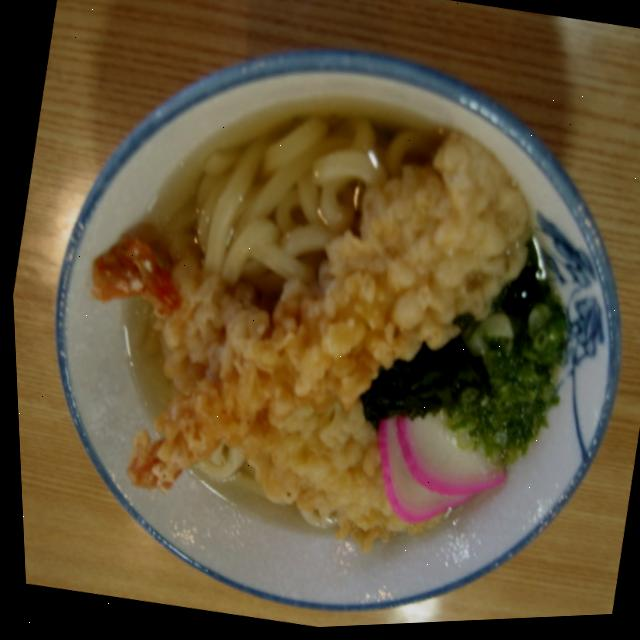面条主食: (56, 33, 610, 579)
